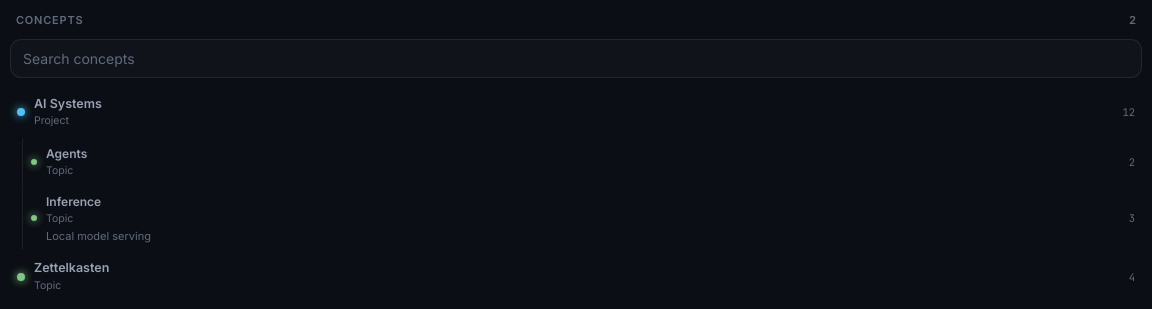
Scenario: ConceptExplorer › keeps the root visible when only a sub-cluster matches, showing just matching children
The image size is (1152, 309).
In the search field: (576, 58) x1=10 y1=38 x2=1142 y2=78, type "serving"
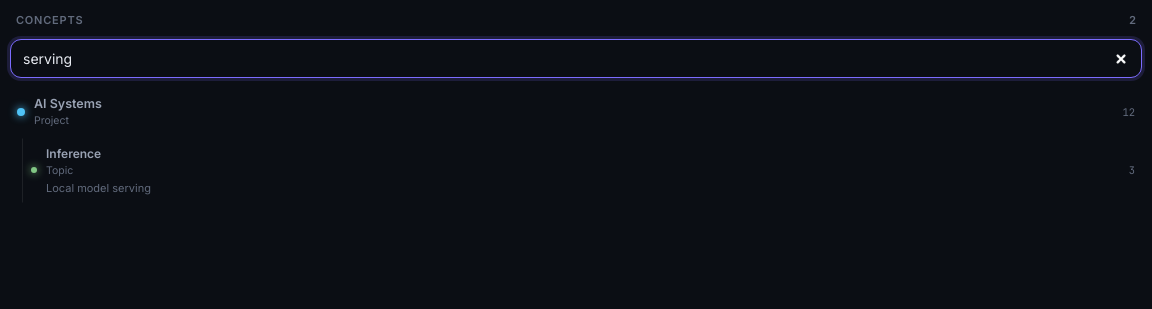
Expected: the text "AI Systems" is shown, x1=34 y1=96 x2=102 y2=110
Expected: the button "Agents" is gone
Expected: the button "Zettelkasten" is gone
